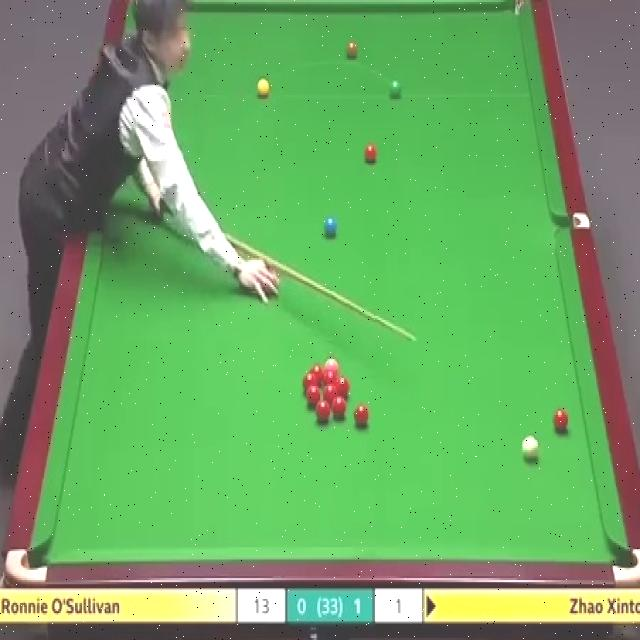blue-ball: (322, 215, 338, 239)
brown-ball: (345, 42, 358, 63)
green-ball: (388, 80, 403, 102)
pink-ball: (324, 358, 339, 369)
red-ball: (552, 408, 569, 432), (332, 396, 347, 422), (354, 407, 369, 430), (364, 144, 379, 167), (316, 400, 329, 422), (336, 378, 350, 398), (310, 367, 324, 386), (304, 374, 317, 394), (308, 390, 322, 408), (324, 368, 336, 386), (324, 384, 337, 399)
white-ball: (521, 436, 539, 462)
yellow-ball: (256, 78, 270, 99)
